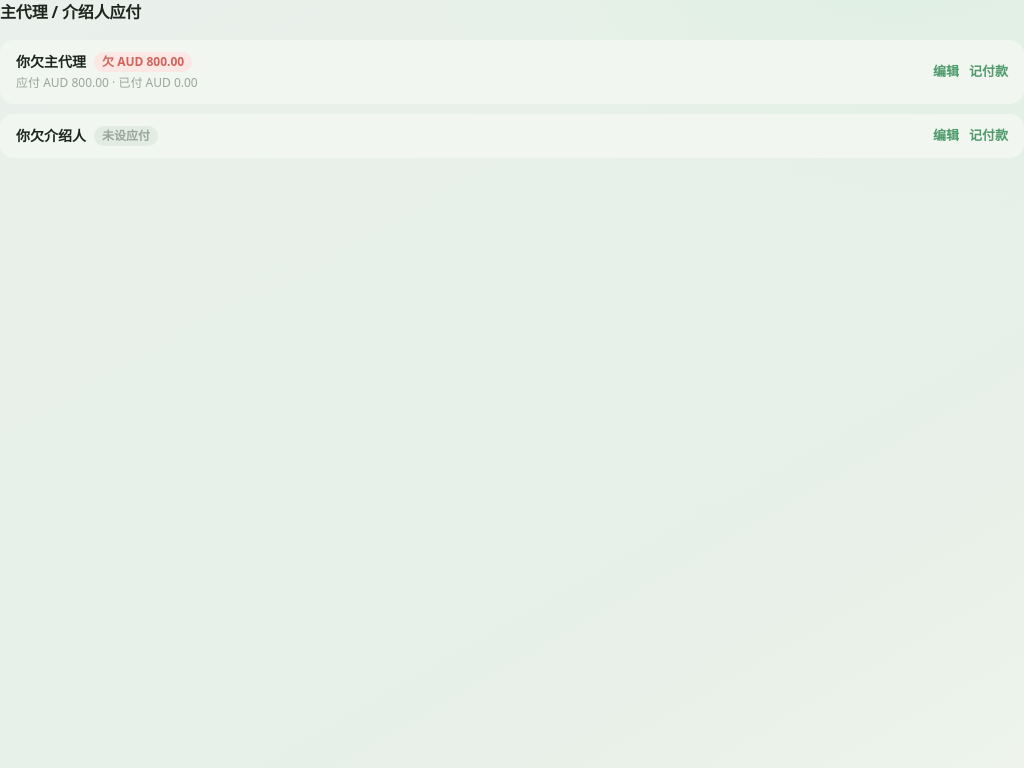
Test: PayablePanel 每行操作 + 状态派生 › 点「记付款」→ 展开记一笔付款表单（确认付款），接付款 flow
Click the button "记付款" in the row of "AUD 0.00" at (988, 72), box top-left (969, 62), bottom-right (1008, 82)
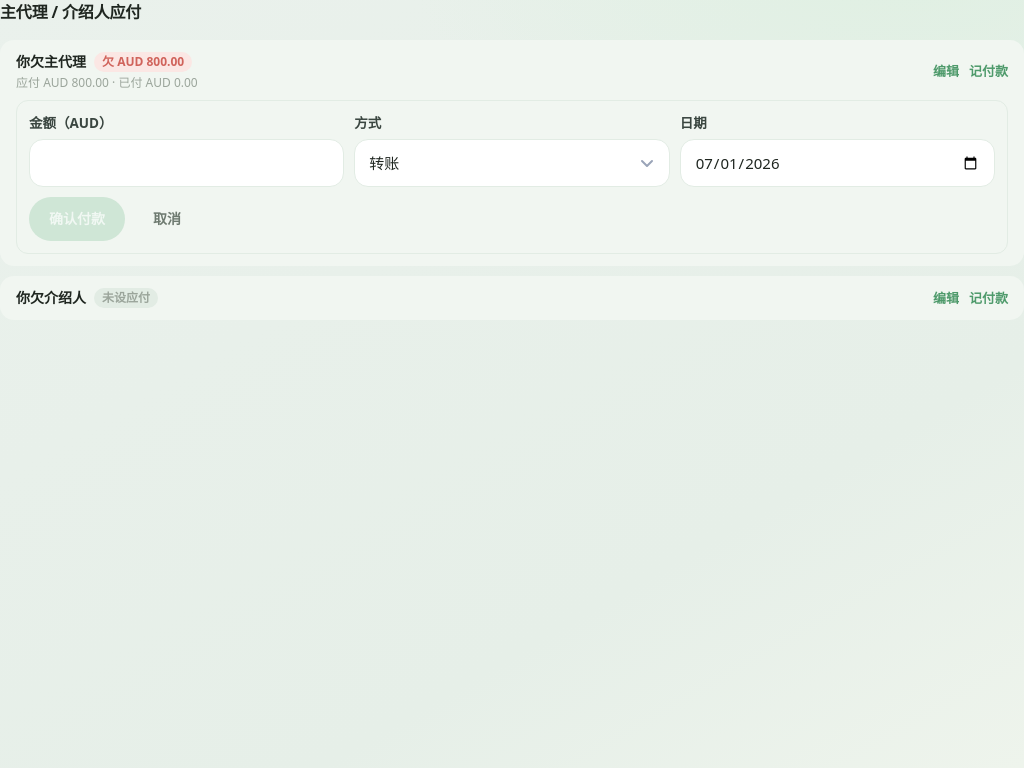
Result: the button "确认付款" is shown at top-left (29, 197), bottom-right (125, 241)
Result: the number field labelled "金额（AUD）" is shown at top-left (29, 139), bottom-right (344, 187)
